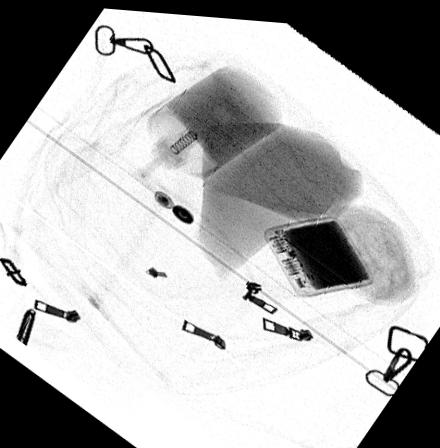Powerbank: (262, 210, 374, 294)
